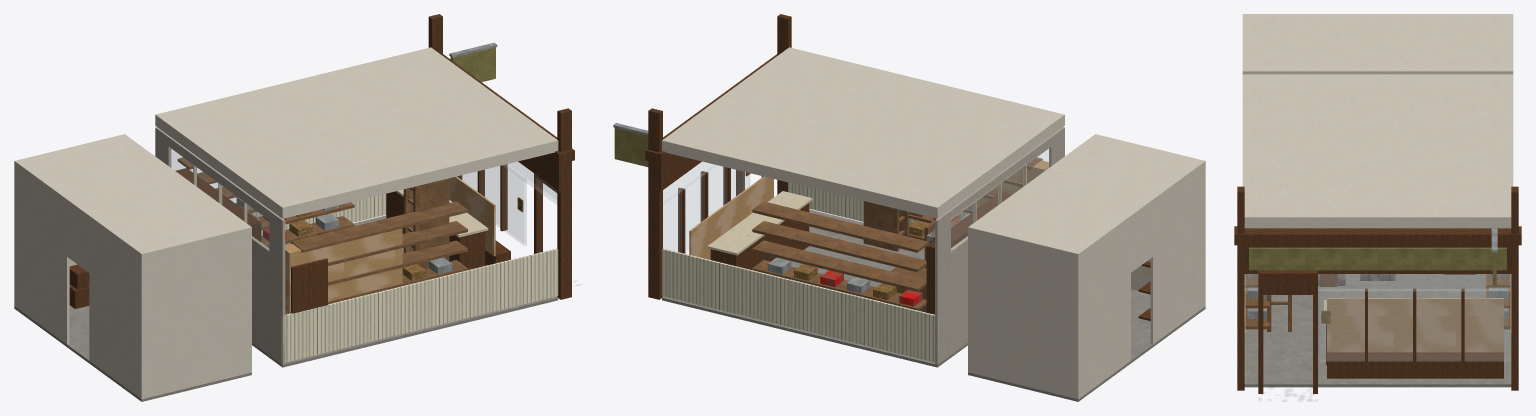
Rendered from shop_hardware_paint.gltf.
The picture shows the model from 3 angles, left to right: view 1: azimuth 30°, elevation 25°; view 2: azimuth 150°, elevation 25°; view 3: azimuth 270°, elevation 25°; orthographic projection. The views are drawn at different scales.
Visible parts, largest first — view 1: F01_OWN_SHOP_HARDWARE_PAINT_retail_shop_hardware_paint_plast (×2), F01_OWN_SHOP_HARDWARE_PAINT_retail_shop_hardware_paint_wains, F01_OWN_SHOP_HARDWARE_PAINT_retail_shop_hardware_paint_wood_, F01_OWN_SHOP_HARDWARE_PAINT_retail_shop_hardware_paint_timbe, F01_OWN_SHOP_HARDWARE_PAINT_retail_shop_hardware_paint_plywo, F01_OWN_SHOP_HARDWARE_PAINT_retail_shop_hardware_paint_glass, F01_OWN_SHOP_HARDWARE_PAINT_retail_shop_hardware_paint_concr, F01_OWN_SHOP_HARDWARE_PAINT_retail_shop_hardware_paint_metal, F01_OWN_SHOP_HARDWARE_PAINT_retail_shop_hardware_paint_fabri, F01_OWN_SHOP_HARDWARE_PAINT_retail_shop_hardware_paint_brass, F01_OWN_SHOP_HARDWARE_PAINT_retail_shop_hardware_paint_count; view 2: F01_OWN_SHOP_HARDWARE_PAINT_retail_shop_hardware_paint_plast (×2), F01_OWN_SHOP_HARDWARE_PAINT_retail_shop_hardware_paint_wains, F01_OWN_SHOP_HARDWARE_PAINT_retail_shop_hardware_paint_timbe, F01_OWN_SHOP_HARDWARE_PAINT_retail_shop_hardware_paint_wood_, F01_OWN_SHOP_HARDWARE_PAINT_retail_shop_hardware_paint_glass, F01_OWN_SHOP_HARDWARE_PAINT_retail_shop_hardware_paint_concr, F01_OWN_SHOP_HARDWARE_PAINT_retail_shop_hardware_paint_plywo, F01_OWN_SHOP_HARDWARE_PAINT_retail_shop_hardware_paint_count, F01_OWN_SHOP_HARDWARE_PAINT_retail_shop_hardware_paint_fabri, F01_OWN_SHOP_HARDWARE_PAINT_retail_shop_hardware_paint_brass, F01_OWN_SHOP_HARDWARE_PAINT_retail_shop_hardware_paint_metal, F01_OWN_SHOP_HARDWARE_PAINT_retail_shop_hardware_paint_safet; view 3: F01_OWN_SHOP_HARDWARE_PAINT_retail_shop_hardware_paint_plast, F01_OWN_SHOP_HARDWARE_PAINT_retail_shop_hardware_paint_wood_, F01_OWN_SHOP_HARDWARE_PAINT_retail_shop_hardware_paint_glass, F01_OWN_SHOP_HARDWARE_PAINT_retail_shop_hardware_paint_concr, F01_OWN_SHOP_HARDWARE_PAINT_retail_shop_hardware_paint_plywo, F01_OWN_SHOP_HARDWARE_PAINT_retail_shop_hardware_paint_fabri, F01_OWN_SHOP_HARDWARE_PAINT_retail_shop_hardware_paint_timbe, F01_OWN_SHOP_HARDWARE_PAINT_retail_shop_hardware_paint_metal, F01_OWN_SHOP_HARDWARE_PAINT_retail_shop_hardware_paint_wains, F01_OWN_SHOP_HARDWARE_PAINT_retail_shop_hardware_paint_cast_.
Boxes of the visible parts, box(x1,y1,x2,y2) form: F01_OWN_SHOP_HARDWARE_PAINT_retail_shop_hardware_paint_plast (×2): box(14, 47, 558, 399); F01_OWN_SHOP_HARDWARE_PAINT_retail_shop_hardware_paint_wains: box(251, 193, 558, 362); F01_OWN_SHOP_HARDWARE_PAINT_retail_shop_hardware_paint_wood_: box(69, 14, 574, 313); F01_OWN_SHOP_HARDWARE_PAINT_retail_shop_hardware_paint_timbe: box(177, 157, 467, 314); F01_OWN_SHOP_HARDWARE_PAINT_retail_shop_hardware_paint_plywo: box(285, 176, 495, 312); F01_OWN_SHOP_HARDWARE_PAINT_retail_shop_hardware_paint_glass: box(170, 148, 556, 249); F01_OWN_SHOP_HARDWARE_PAINT_retail_shop_hardware_paint_concr: box(14, 215, 558, 401); F01_OWN_SHOP_HARDWARE_PAINT_retail_shop_hardware_paint_metal: box(236, 42, 497, 274); F01_OWN_SHOP_HARDWARE_PAINT_retail_shop_hardware_paint_fabri: box(450, 47, 495, 81); F01_OWN_SHOP_HARDWARE_PAINT_retail_shop_hardware_paint_brass: box(289, 211, 425, 280); F01_OWN_SHOP_HARDWARE_PAINT_retail_shop_hardware_paint_count: box(396, 189, 488, 237); F01_OWN_SHOP_HARDWARE_PAINT_retail_shop_hardware_paint_plast (×2): box(662, 47, 1205, 399); F01_OWN_SHOP_HARDWARE_PAINT_retail_shop_hardware_paint_wains: box(662, 182, 968, 362); F01_OWN_SHOP_HARDWARE_PAINT_retail_shop_hardware_paint_timbe: box(752, 157, 1042, 312); F01_OWN_SHOP_HARDWARE_PAINT_retail_shop_hardware_paint_wood_: box(645, 14, 1150, 320); F01_OWN_SHOP_HARDWARE_PAINT_retail_shop_hardware_paint_glass: box(663, 148, 1050, 253); F01_OWN_SHOP_HARDWARE_PAINT_retail_shop_hardware_paint_concr: box(662, 209, 1205, 401); F01_OWN_SHOP_HARDWARE_PAINT_retail_shop_hardware_paint_plywo: box(689, 160, 1048, 259); F01_OWN_SHOP_HARDWARE_PAINT_retail_shop_hardware_paint_count: box(707, 191, 812, 255); F01_OWN_SHOP_HARDWARE_PAINT_retail_shop_hardware_paint_fabri: box(614, 128, 648, 166); F01_OWN_SHOP_HARDWARE_PAINT_retail_shop_hardware_paint_brass: box(794, 212, 929, 299); F01_OWN_SHOP_HARDWARE_PAINT_retail_shop_hardware_paint_metal: box(613, 123, 972, 293); F01_OWN_SHOP_HARDWARE_PAINT_retail_shop_hardware_paint_safet: box(820, 216, 957, 306); F01_OWN_SHOP_HARDWARE_PAINT_retail_shop_hardware_paint_plast: box(1242, 14, 1513, 228); F01_OWN_SHOP_HARDWARE_PAINT_retail_shop_hardware_paint_wood_: box(1234, 186, 1521, 393); F01_OWN_SHOP_HARDWARE_PAINT_retail_shop_hardware_paint_glass: box(1245, 274, 1510, 361); F01_OWN_SHOP_HARDWARE_PAINT_retail_shop_hardware_paint_concr: box(1244, 274, 1511, 387); F01_OWN_SHOP_HARDWARE_PAINT_retail_shop_hardware_paint_plywo: box(1327, 298, 1503, 352); F01_OWN_SHOP_HARDWARE_PAINT_retail_shop_hardware_paint_fabri: box(1249, 247, 1506, 285); F01_OWN_SHOP_HARDWARE_PAINT_retail_shop_hardware_paint_timbe: box(1245, 274, 1510, 331); F01_OWN_SHOP_HARDWARE_PAINT_retail_shop_hardware_paint_metal: box(1247, 227, 1508, 318); F01_OWN_SHOP_HARDWARE_PAINT_retail_shop_hardware_paint_wains: box(1244, 274, 1511, 382); F01_OWN_SHOP_HARDWARE_PAINT_retail_shop_hardware_paint_cast_: box(1318, 274, 1395, 285).
Bounding box in the file's own units: 11.14 × 4.25 × 5.52.
Materials: 22 (21 with a texture image).
